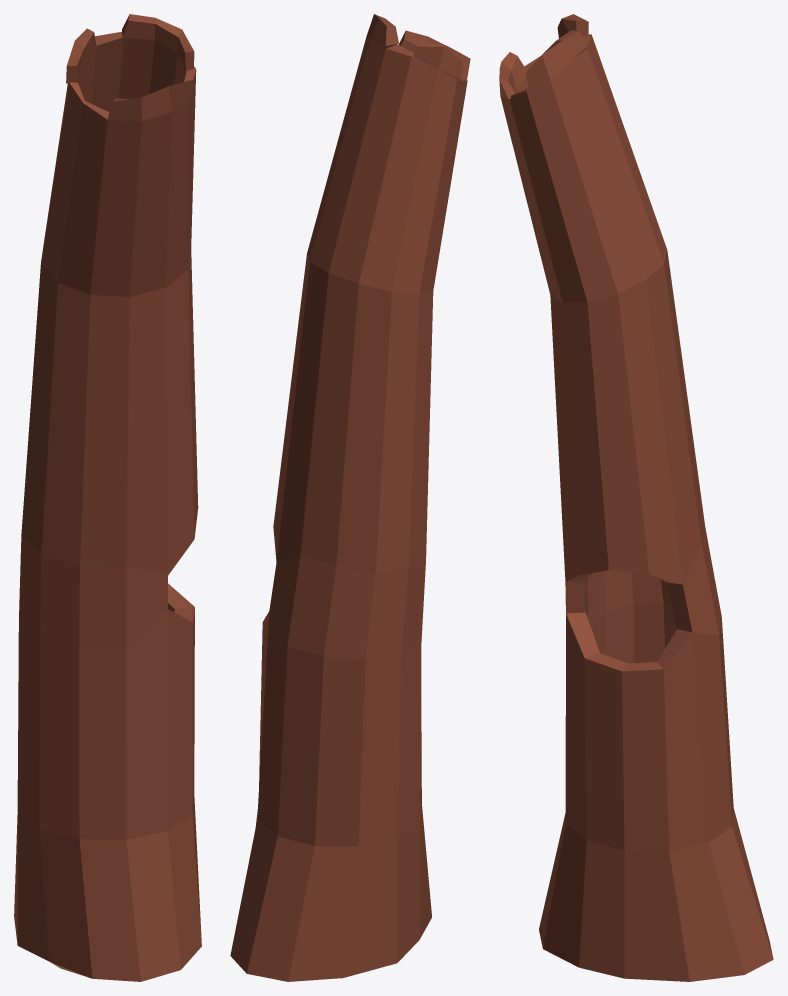
File: RottenWood.fbx
3 views of the same model, side by side, from view 1: azimuth 30°, elevation 25°; view 2: azimuth 150°, elevation 25°; view 3: azimuth 270°, elevation 25° (orthographic). The views are drawn at different scales.
Parts seen in each view (by area): view 1: RottenTree; view 2: RottenTree; view 3: RottenTree.
Part boxes in pixels (box(x1,y1,x2,y2)): RottenTree: box(14, 14, 201, 981); RottenTree: box(230, 14, 470, 981); RottenTree: box(499, 14, 773, 981).
Size of the model in its own units: 318 by 1166 by 214.
